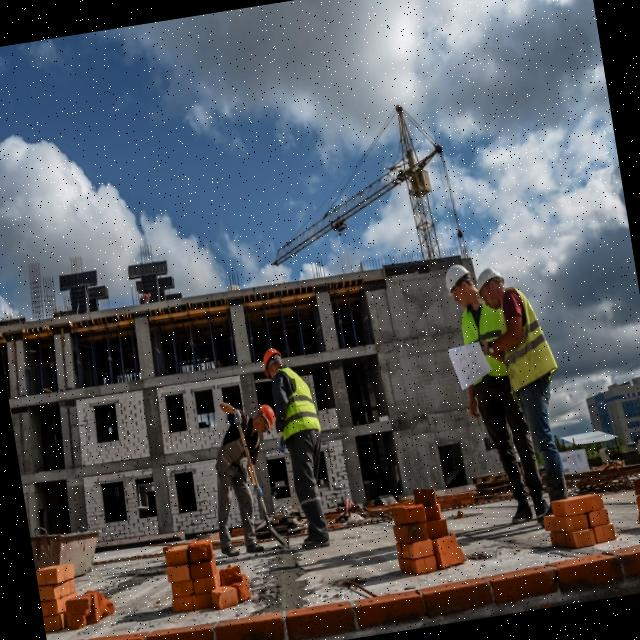Helmet: (442, 263, 478, 298), (475, 266, 508, 302), (258, 404, 279, 439), (262, 348, 286, 378)
Jacket: (498, 292, 552, 391), (461, 302, 507, 377), (278, 367, 317, 437)
NoJacket: (220, 417, 266, 475)
